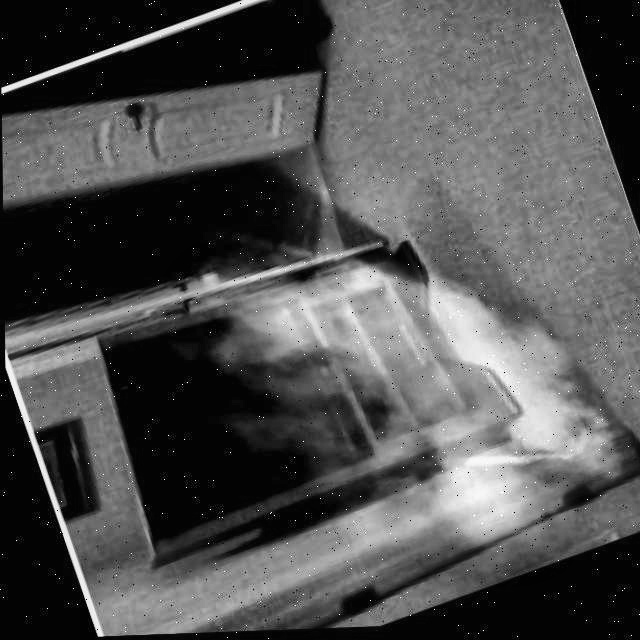Smoke: (119, 136, 640, 633)
